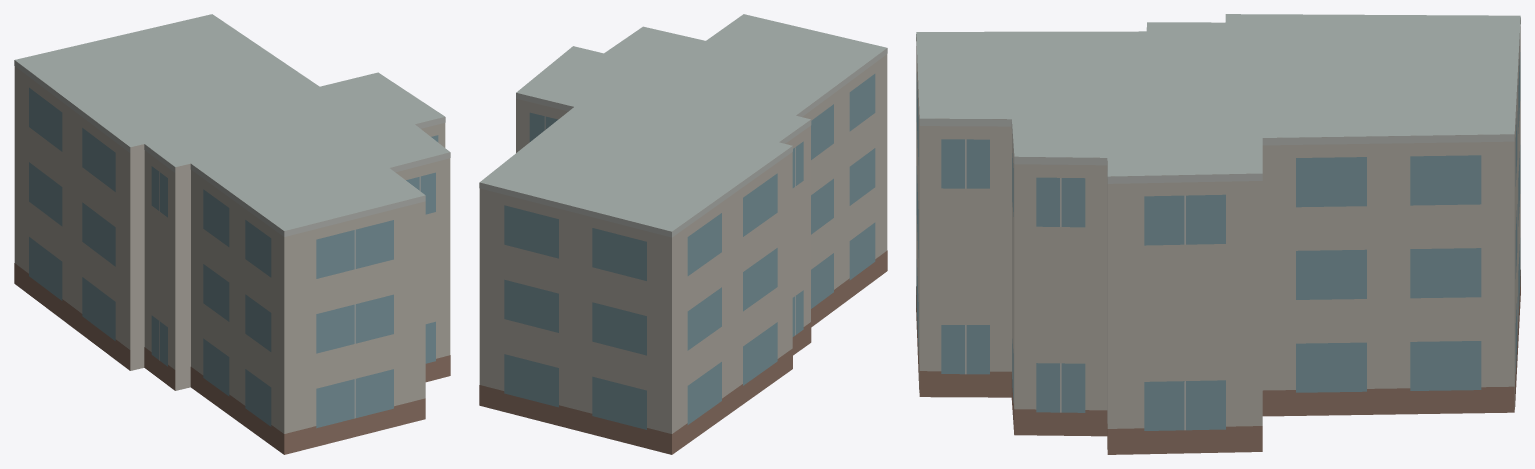
The model's file is survey-upis-32936812.glb.
The picture shows the model from 3 angles, left to right: view 1: azimuth 30°, elevation 25°; view 2: azimuth 150°, elevation 25°; view 3: azimuth 270°, elevation 25°; orthographic projection. The views are drawn at different scales.
Parts seen in each view (by area): view 1: survey-upis-32936812.tmp; view 2: survey-upis-32936812.tmp; view 3: survey-upis-32936812.tmp.
Part boxes in pixels (box(x1,y1,x2,y2)): survey-upis-32936812.tmp: box(14, 14, 450, 454); survey-upis-32936812.tmp: box(479, 14, 887, 454); survey-upis-32936812.tmp: box(916, 14, 1520, 454).
Bounding box in the file's own units: 11.47 × 9.15 × 18.02.
